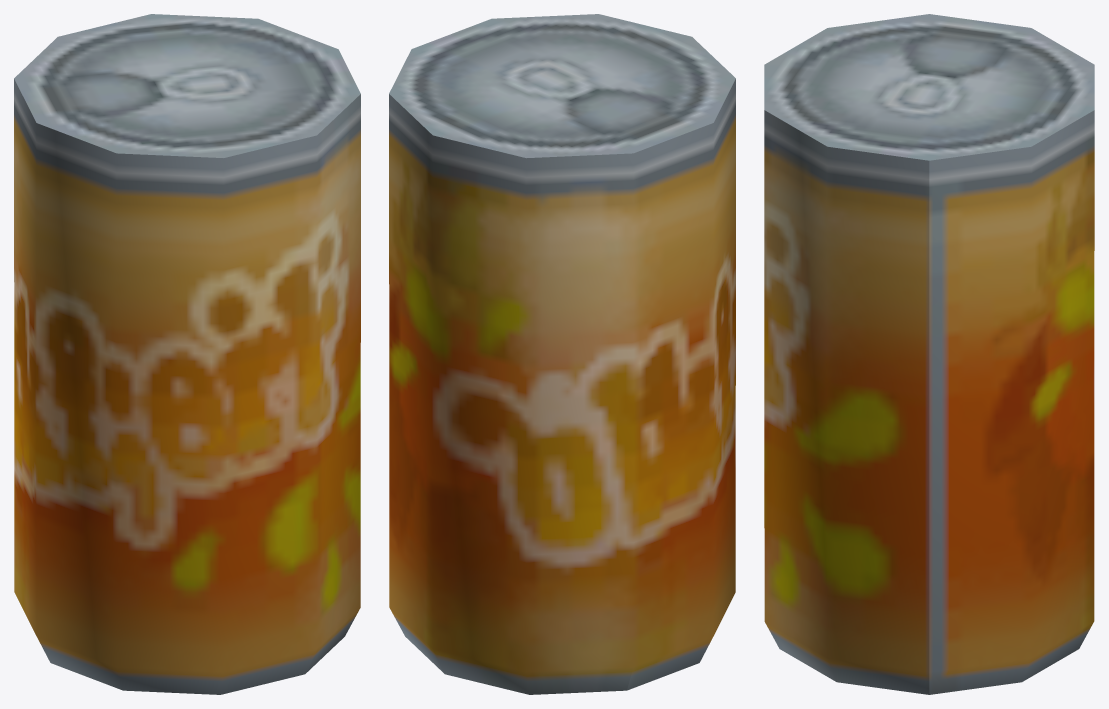
File: lataZumo.fbx
The picture shows the model from 3 angles, left to right: view 1: azimuth 30°, elevation 25°; view 2: azimuth 150°, elevation 25°; view 3: azimuth 270°, elevation 25°; orthographic projection.
Parts seen in each view (by area): view 1: s4studio_mesh_0; view 2: s4studio_mesh_0; view 3: s4studio_mesh_0.
Boxes of the visible parts, box(x1,y1,x2,y2) form: s4studio_mesh_0: box(14, 14, 360, 694); s4studio_mesh_0: box(389, 14, 735, 694); s4studio_mesh_0: box(764, 14, 1094, 694).
Size of the model in its own units: 9.26 by 15.91 by 8.8.
1 material, 1 textured.
